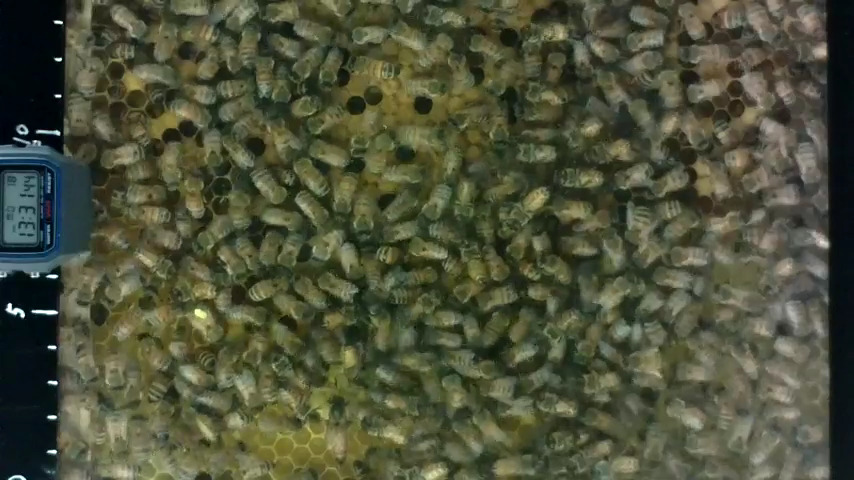hati: (290, 155, 332, 199), (715, 279, 766, 315), (345, 52, 400, 85), (244, 164, 285, 208), (662, 391, 706, 431), (317, 269, 361, 308), (168, 93, 208, 135), (532, 388, 580, 423), (153, 17, 185, 68), (552, 165, 610, 193), (131, 244, 174, 281), (292, 16, 338, 49), (741, 2, 775, 46), (623, 201, 656, 246), (193, 214, 231, 253), (108, 3, 146, 41), (290, 189, 329, 226), (386, 18, 425, 53), (230, 366, 261, 410), (401, 234, 446, 264), (264, 113, 296, 155), (244, 273, 290, 302), (418, 3, 464, 32), (394, 125, 445, 151), (404, 76, 449, 105), (774, 333, 812, 367), (353, 191, 378, 241), (512, 143, 563, 167), (307, 108, 351, 135), (99, 144, 146, 169), (518, 20, 569, 43), (477, 283, 520, 310), (453, 178, 476, 228), (253, 51, 275, 103), (422, 184, 452, 222), (678, 41, 727, 64), (126, 202, 172, 226), (223, 302, 269, 326), (123, 181, 167, 206), (629, 3, 668, 31), (183, 171, 206, 218), (794, 140, 818, 185), (706, 208, 743, 237), (668, 244, 711, 268), (258, 226, 282, 268), (105, 40, 150, 62), (685, 78, 726, 102), (281, 229, 305, 268), (214, 75, 253, 97)
